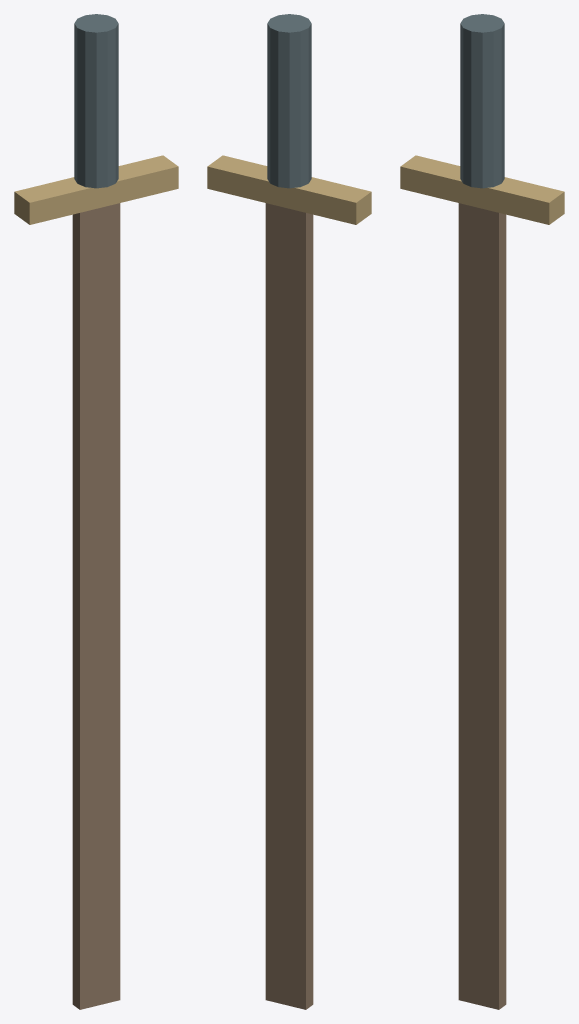
Rendered from EQ-SCABBARD.glb.
3 views of the same model, side by side, from view 1: azimuth 30°, elevation 25°; view 2: azimuth 150°, elevation 25°; view 3: azimuth 330°, elevation 25° (orthographic).
Visible parts, largest first — view 1: sheath, grip, guard; view 2: sheath, grip, guard; view 3: sheath, grip, guard.
Part boxes in pixels (bbox=[...]): sheath: bbox=[72, 203, 120, 1009]; grip: bbox=[74, 14, 118, 188]; guard: bbox=[14, 155, 178, 224]; sheath: bbox=[265, 203, 313, 1009]; grip: bbox=[267, 14, 311, 188]; guard: bbox=[207, 155, 371, 224]; sheath: bbox=[458, 203, 506, 1009]; grip: bbox=[460, 14, 504, 188]; guard: bbox=[400, 155, 564, 224].
Size of the model in its own units: 0.14 by 0.88 by 0.036.
